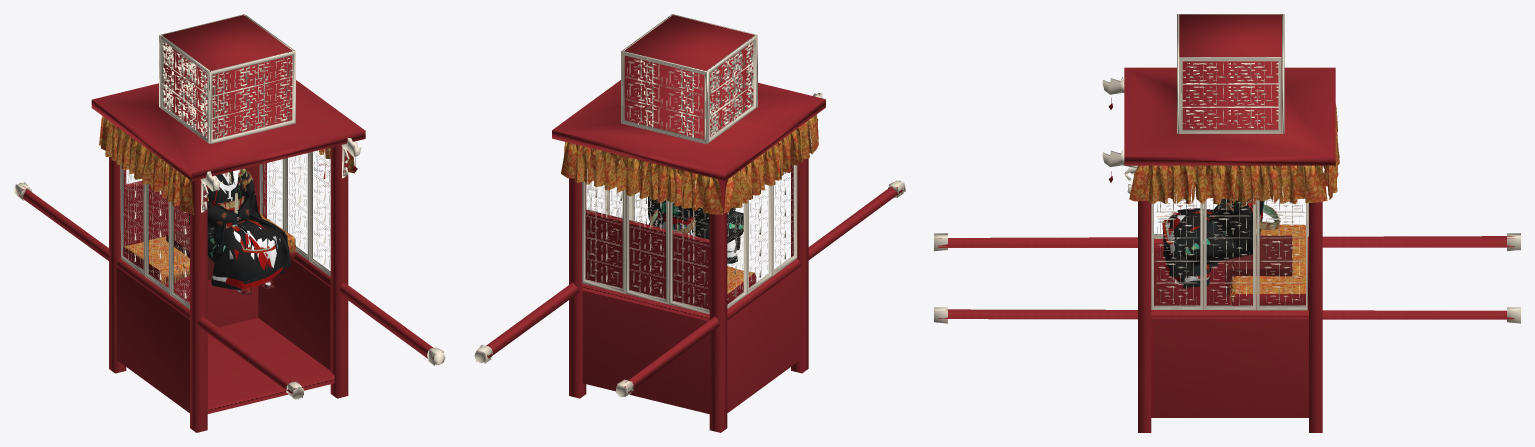
The model's file is Gama.glb.
3 views of the same model, side by side, from view 1: azimuth 30°, elevation 25°; view 2: azimuth 150°, elevation 25°; view 3: azimuth 270°, elevation 25° (orthographic). The views are drawn at different scales.
Parts seen in each view (by area): view 1: GamaMesh; view 2: GamaMesh; view 3: GamaMesh.
Boxes of the visible parts, box(x1,y1,x2,y2) form: GamaMesh: box(14, 14, 445, 432); GamaMesh: box(474, 14, 905, 432); GamaMesh: box(934, 14, 1520, 432).
Bounding box in the file's own units: 1.79 × 3.28 × 4.88.
Materials: 21 (16 with a texture image).
